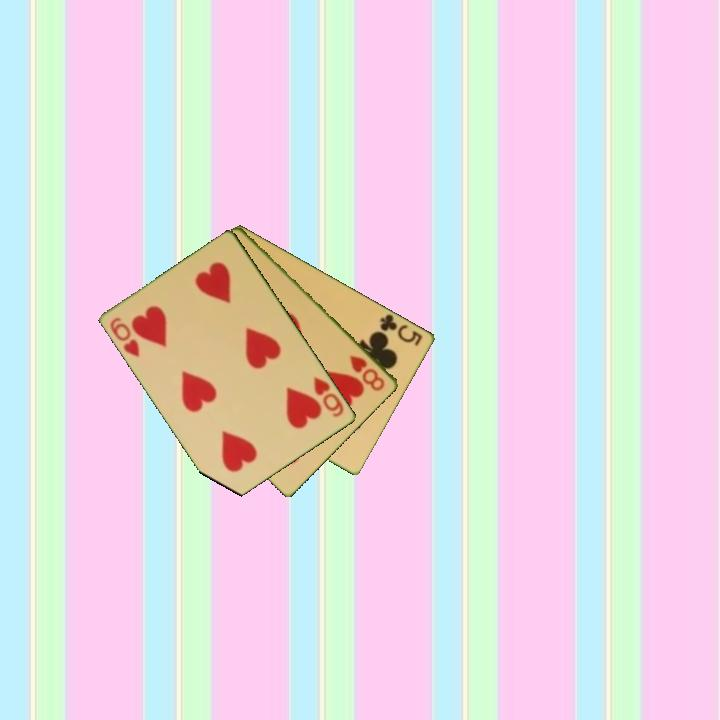5c: (377, 310, 426, 349)
6h: (310, 373, 347, 420), (107, 314, 143, 360)
8h: (346, 351, 388, 394)
